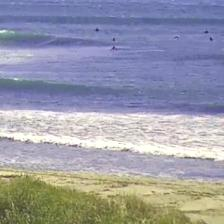surfer: (110, 46, 118, 51), (208, 37, 214, 42), (94, 28, 100, 32), (173, 36, 179, 40), (203, 30, 209, 34), (112, 37, 116, 42)
